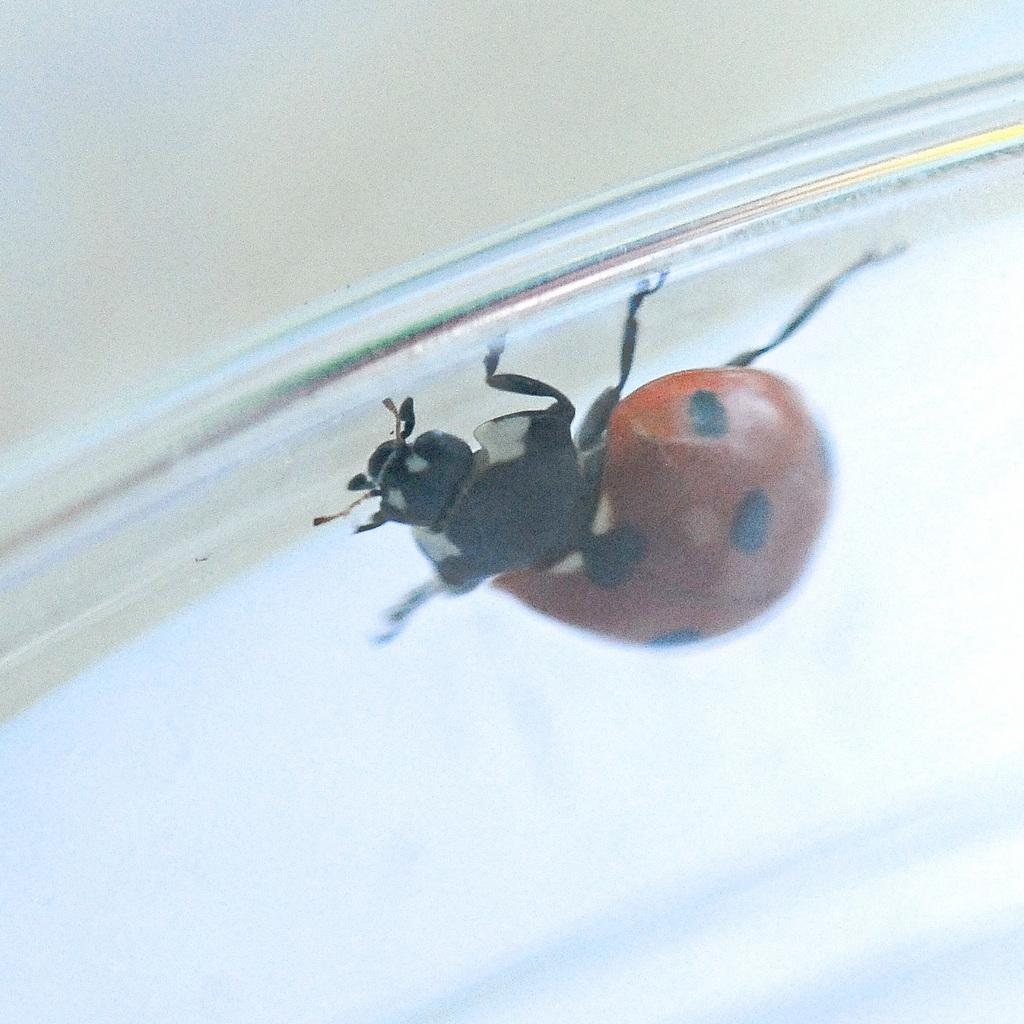ladybug: (311, 241, 914, 654)
